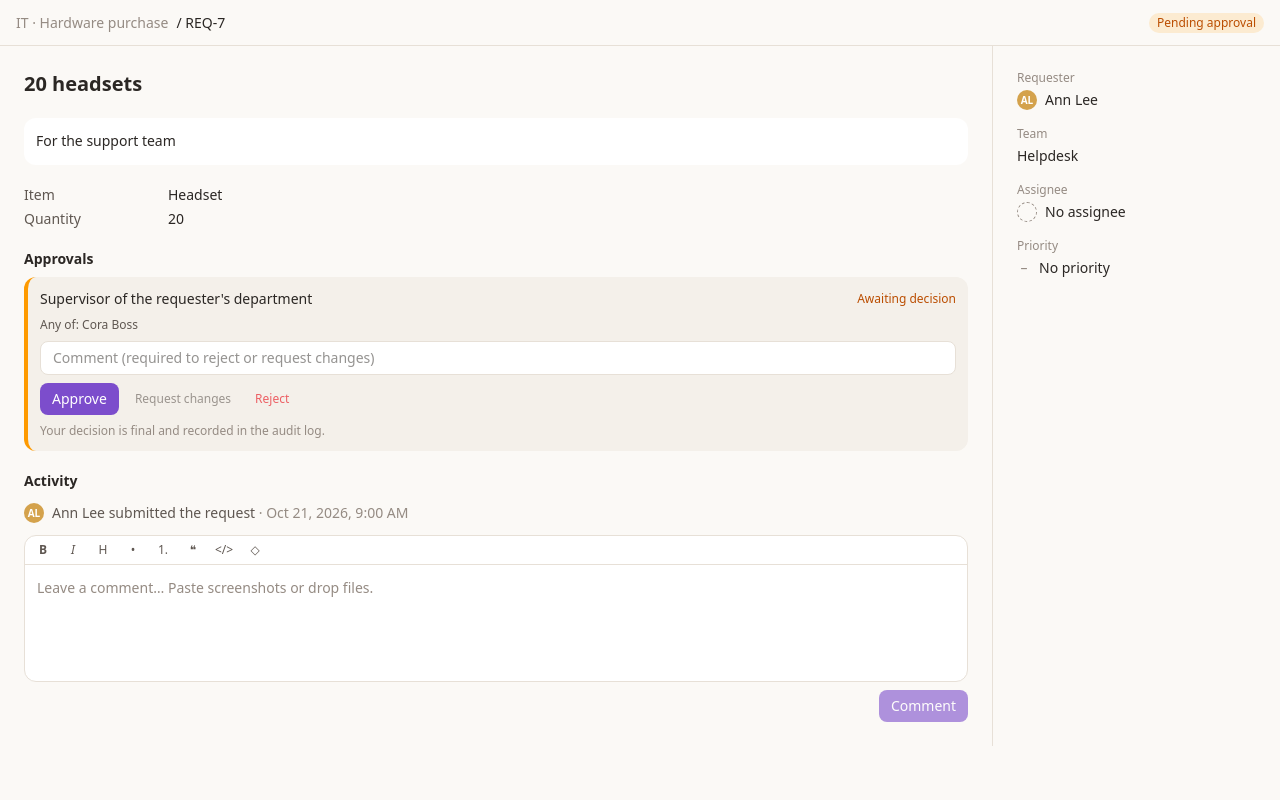
Test: RequestPage › lets an approver approve, and needs a comment to reject
The width and height of the screenshot is (1280, 800).
Check: the button "Reject" is disabled, box [247,383,297,415]
Click the button "Approve" at x=79, y=399, box [40,383,119,415]
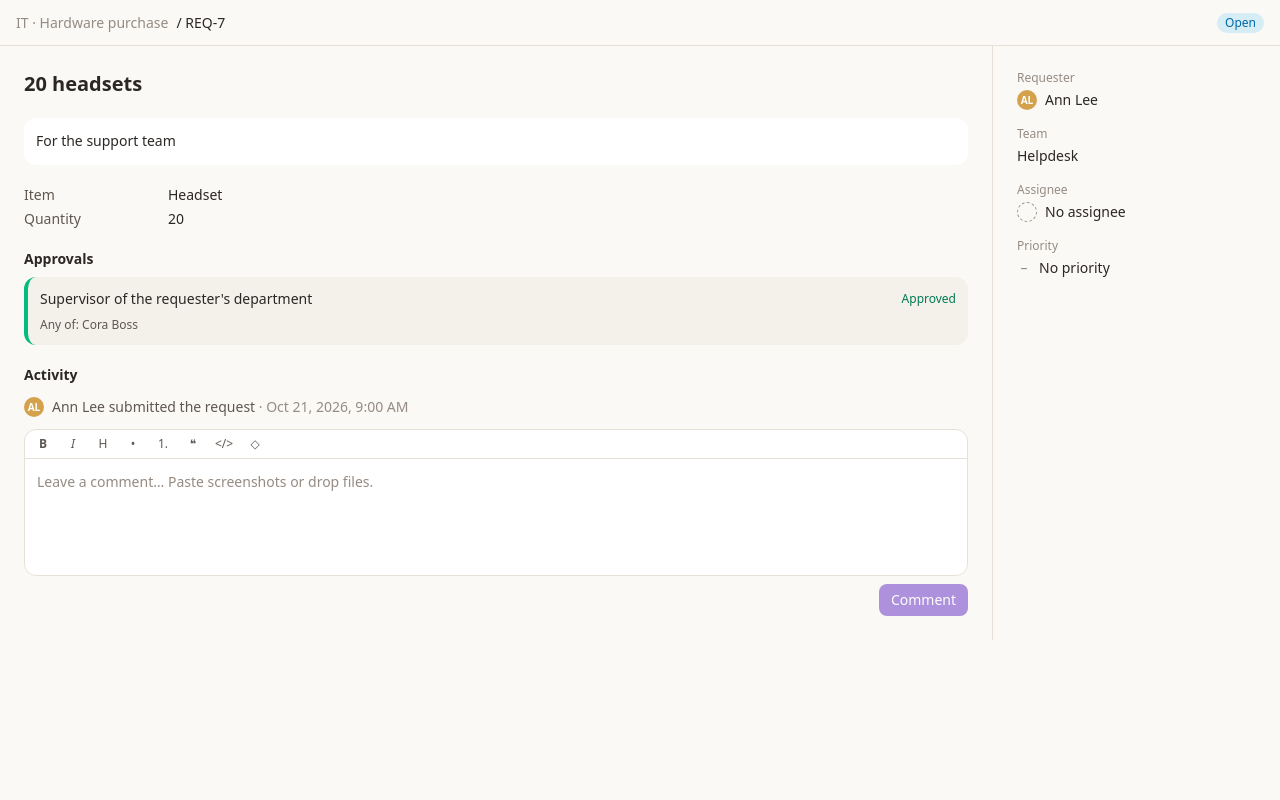
Check: the text "Open" is shown, box [1217,13,1264,33]
